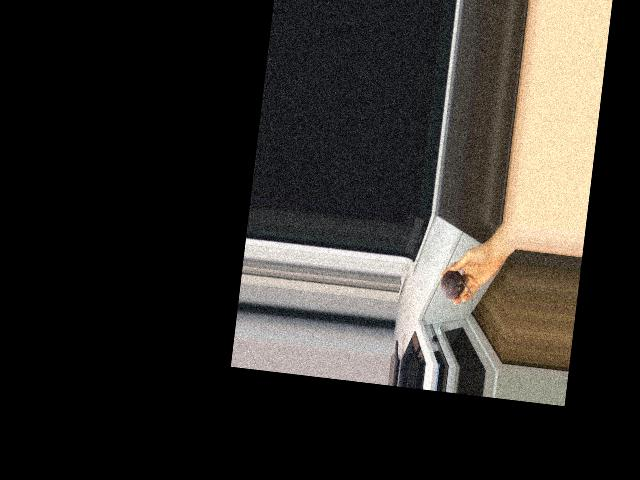beet: (438, 269, 476, 305)
